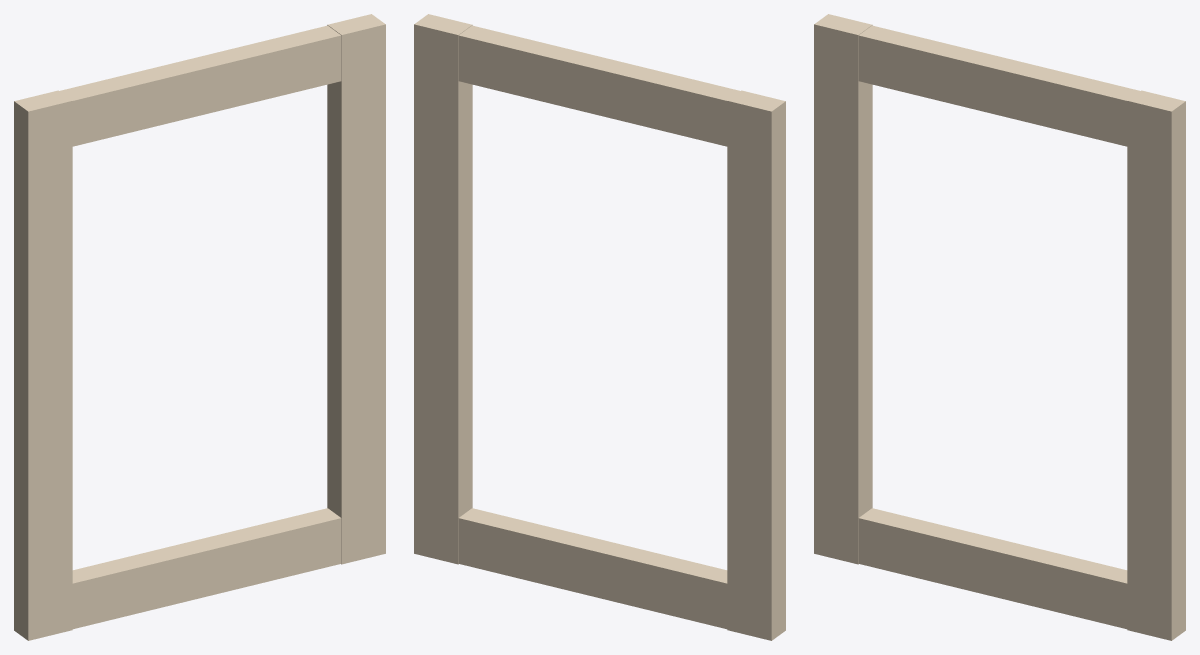
3 views of the same model, side by side, from view 1: azimuth 30°, elevation 25°; view 2: azimuth 150°, elevation 25°; view 3: azimuth 330°, elevation 25° (orthographic).
Visible parts, largest first — view 1: waku; view 2: waku; view 3: waku.
Boxes of the visible parts, x1,y1,x2,y2 form: waku: (14,14,385,640); waku: (414,14,785,640); waku: (814,14,1185,640).
Bounding box in the file's own units: 72.8 × 103 × 5.
